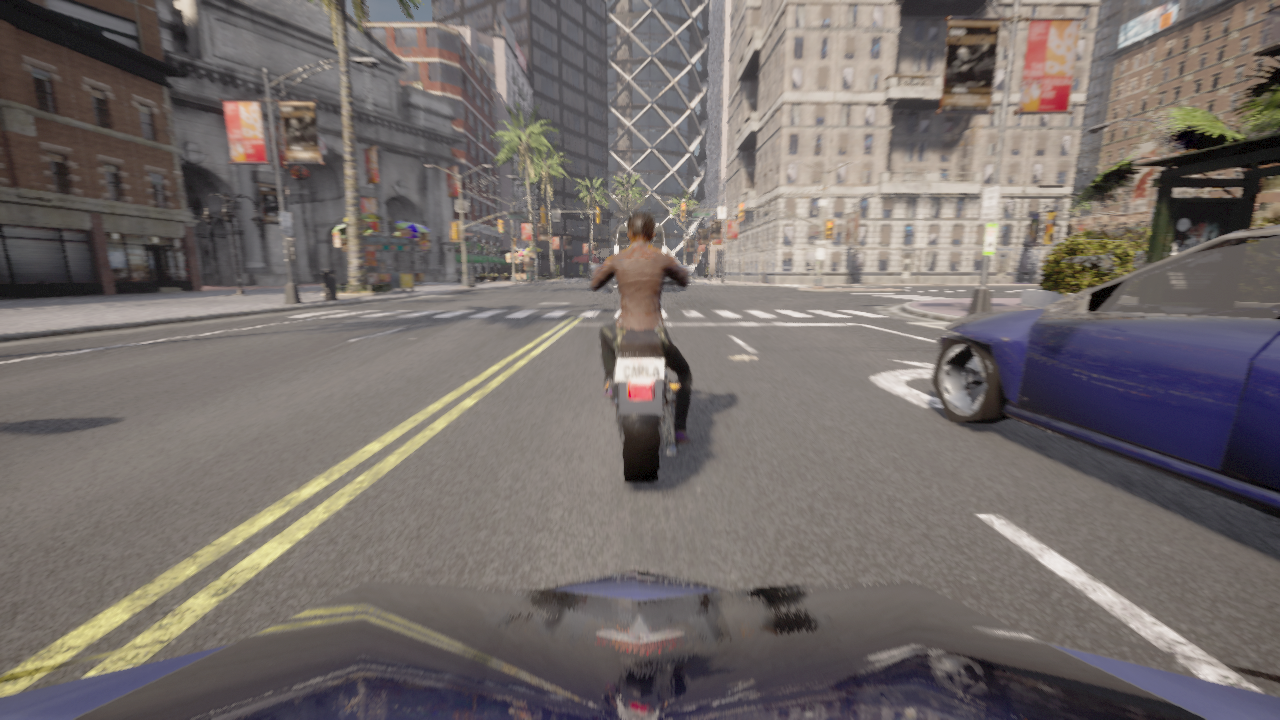cyclist: (0, 569, 1279, 719), (930, 225, 1279, 519), (590, 263, 690, 483), (614, 224, 665, 281)
